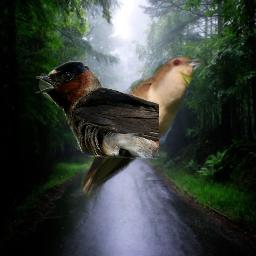Cuckoo: (76, 55, 203, 204)
Swallow: (35, 61, 159, 159)
